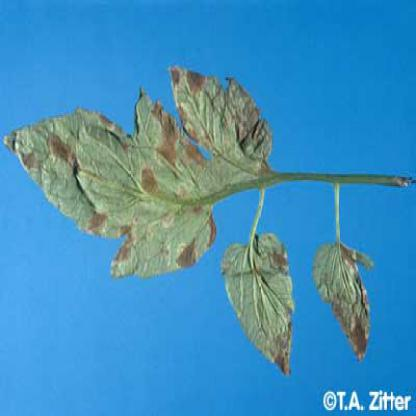tomato mold leaf: (3, 53, 274, 286), (220, 227, 309, 378), (312, 241, 381, 359)
